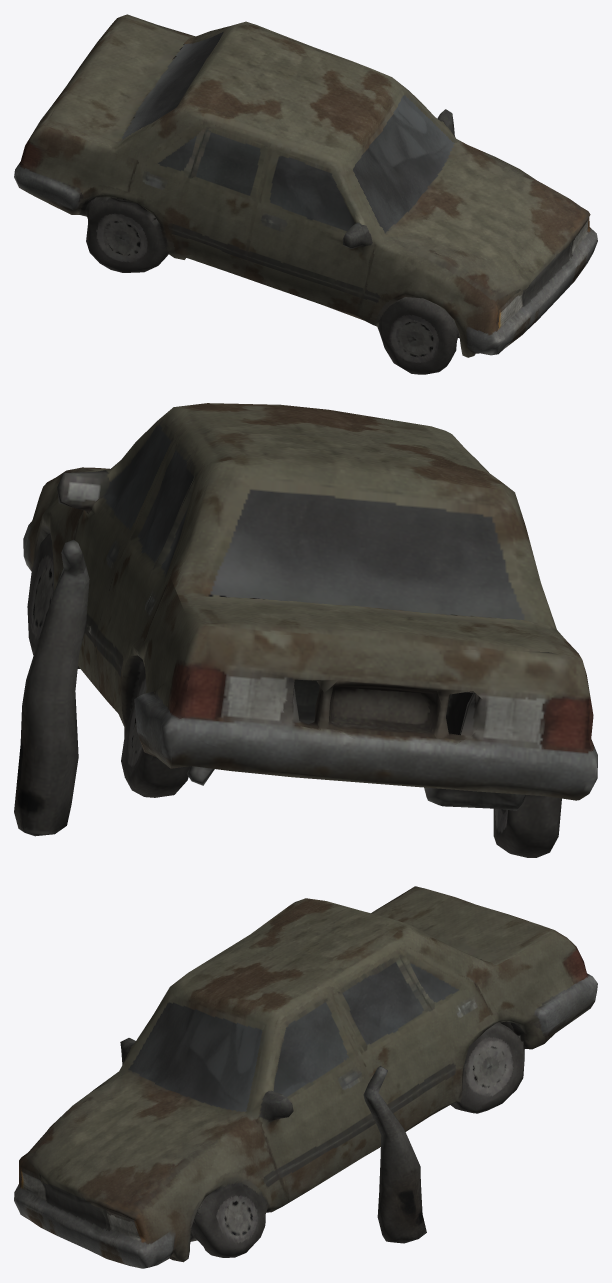
File: wreck_car_raw.glb
3 views of the same model, one above another, from view 1: azimuth 30°, elevation 25°; view 2: azimuth 150°, elevation 25°; view 3: azimuth 270°, elevation 25° (orthographic). The views are drawn at different scales.
Bounding box in the file's own units: 0.9034 × 0.4966 × 0.9234.
1 material, 1 textured.
